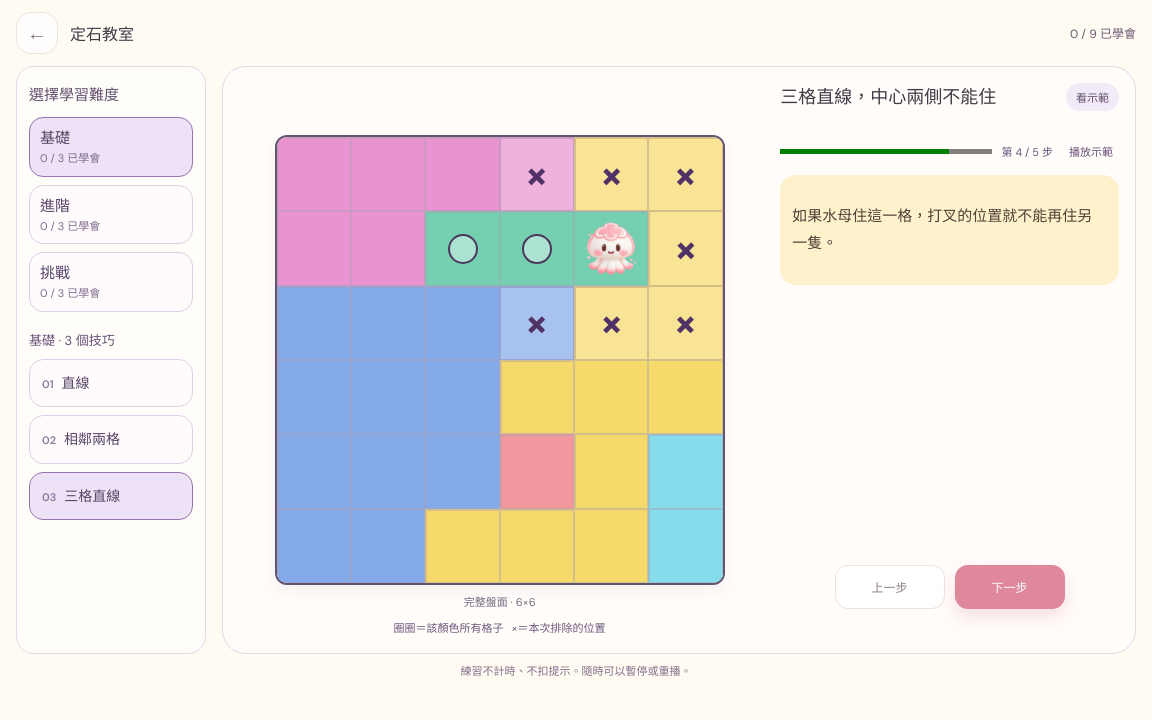
Scenario: continues from triple into the next difficulty without leaving the classroom
Earlier steps of the test are not shown.
Step 1. Click the button with class "next-step" → click(1010, 587), box x1=955 y1=565 x2=1065 y2=609
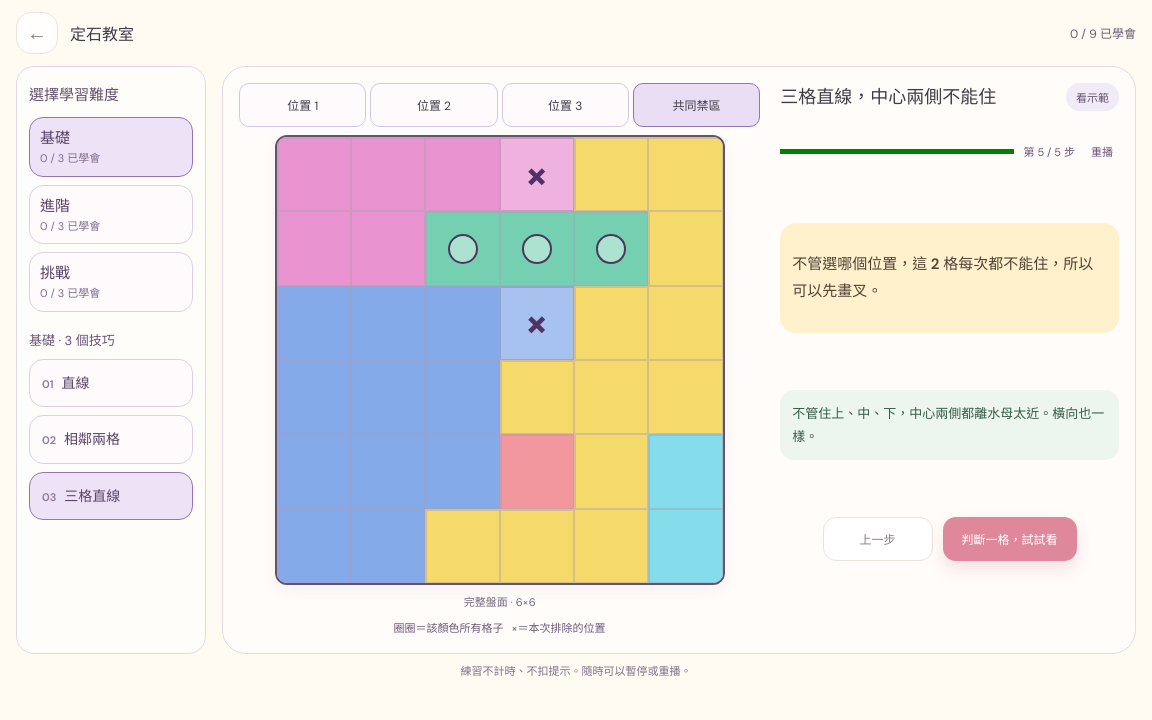
Step 2. Click the button with class "next-step" → click(1010, 539), box x1=943 y1=517 x2=1077 y2=561
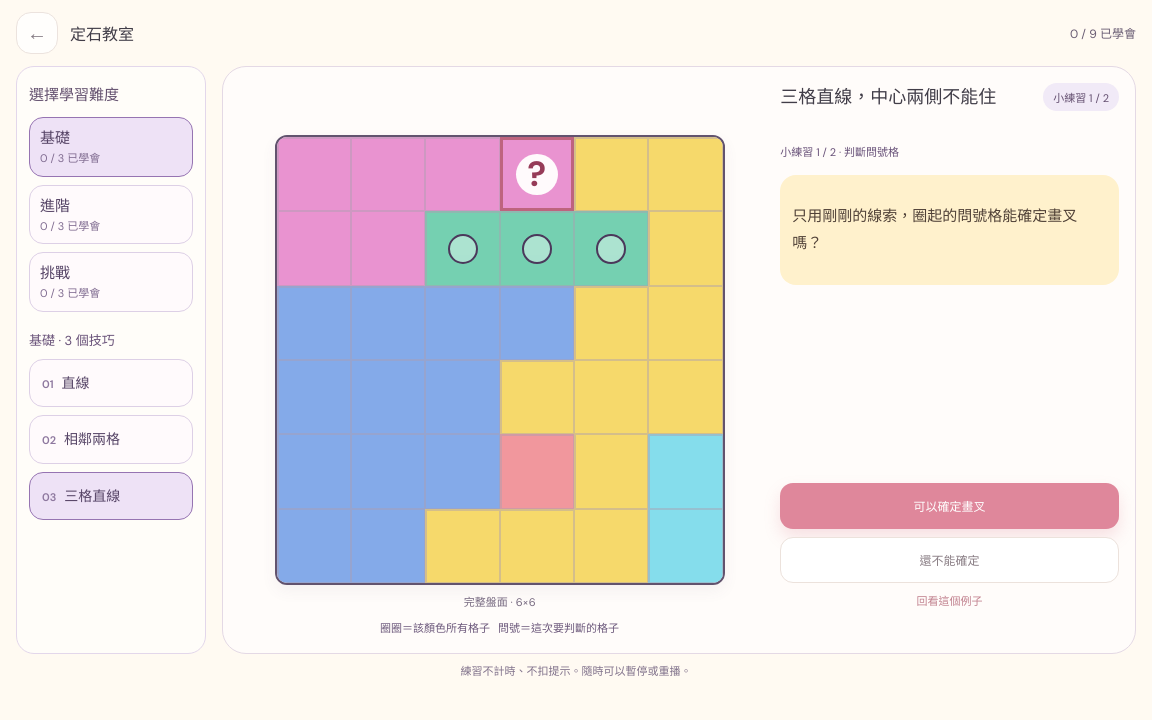
Step 3. Click the button with class "answer-yes" → click(950, 506), box x1=780 y1=483 x2=1119 y2=529
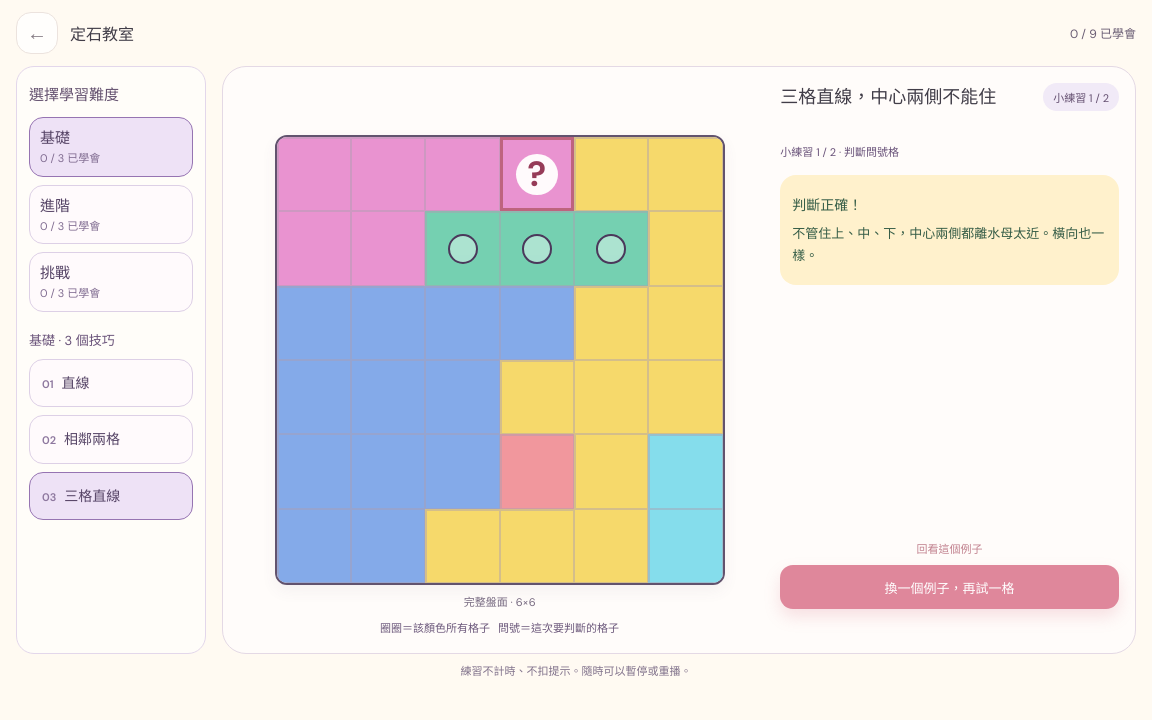
Step 4. Click the button with class "continue-practice" → click(950, 587), box x1=780 y1=565 x2=1119 y2=609
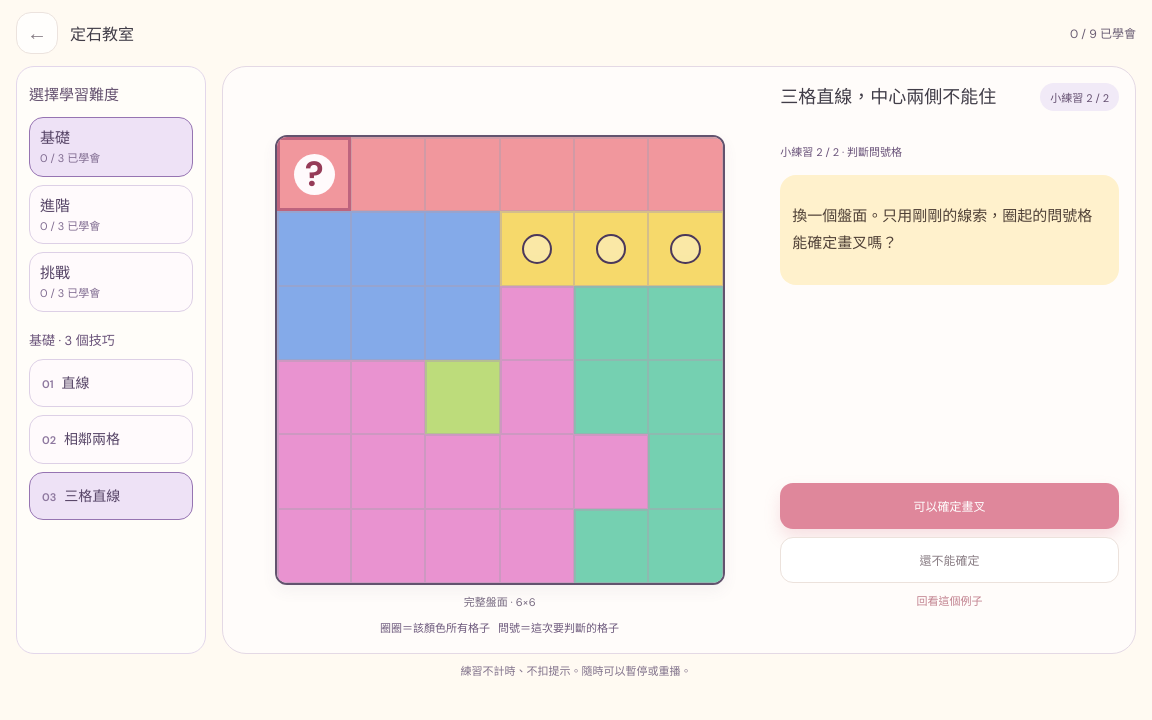
Step 5. Click the button with class "answer-no" → click(950, 560), box x1=780 y1=537 x2=1119 y2=583
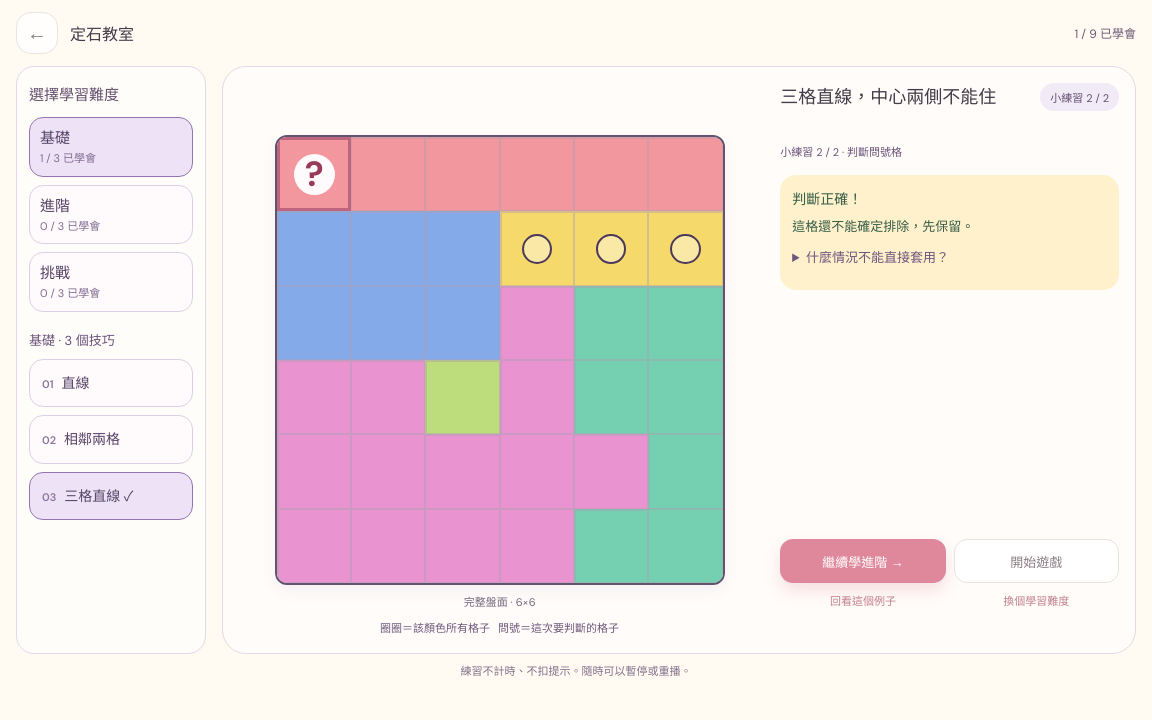
Expected: the button with class "academy-play" reads "開始遊戲", x1=954 y1=539 x2=1119 y2=583
Step 6. Click the button with class "continue-practice" → click(863, 561), box x1=780 y1=539 x2=946 y2=583
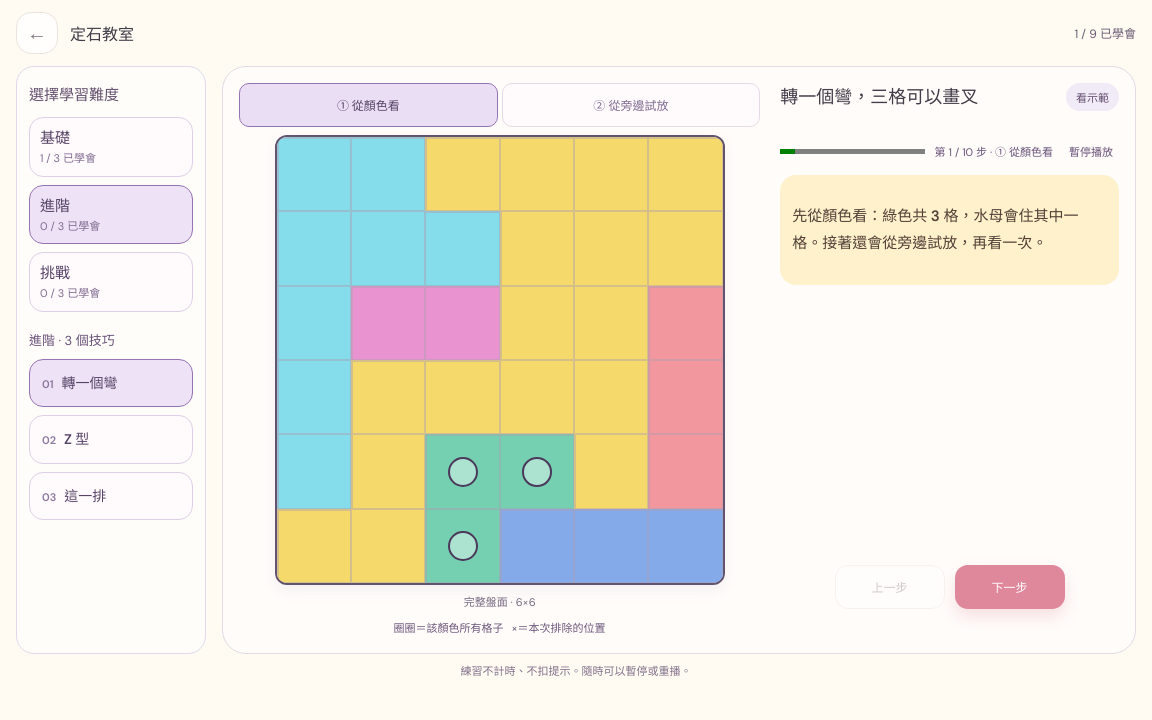
Expected: the text "第 1 / 10 步 · ① 從顏色看" is shown, x1=935 y1=143 x2=1053 y2=159
Expected: the message "判斷正確！ 這格還不能確定排除，先保留。 什麼情況不能直接套用？" is gone
